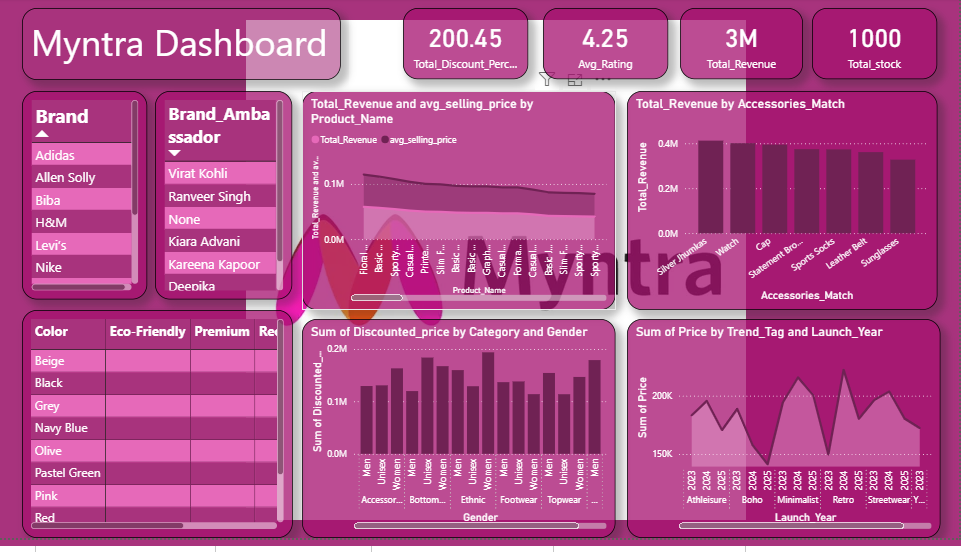

The dashboard page shown, as its layout file describes it:
{"tool":"powerbi","page":{"name":"Dashboard","canvas":[1280,720],"ordinal":6},"visuals":[{"type":"textbox","box":[30.3,13.8,432.2,95],"z":0},{"type":"stackedAreaChart","fields":{"Category":["Myntra_Fashion_Dataset.Product_Name"],"Y":["Myntra_Fashion_Dataset.Total_Revenue","Myntra_Fashion_Dataset.avg_selling_price"]},"box":[404.6,123.9,418.4,291.8],"z":1000},{"type":"tableEx","fields":{"Values":["Myntra_Fashion_Dataset.Brand"]},"box":[30.3,123.9,166.5,278],"z":2000},{"type":"lineStackedColumnComboChart","fields":{"Category":["Myntra_Fashion_Dataset.Accessories_Match"],"Y":["Myntra_Fashion_Dataset.Total_Revenue"]},"box":[836.8,123.9,414.3,291.8],"z":3000},{"type":"clusteredColumnChart","fields":{"Category":["Myntra_Fashion_Dataset.Category","Myntra_Fashion_Dataset.Gender"],"Y":["Myntra_Fashion_Dataset.Discounted_price"]},"box":[404.6,428,418.4,291.8],"z":4000},{"type":"card","fields":{"Values":["Myntra_Fashion_Dataset.Total_Revenue"]},"box":[908.4,13.8,163.8,95],"z":5000},{"type":"card","fields":{"Values":["Myntra_Fashion_Dataset.Total_stock"]},"box":[1084.6,13.8,166.5,95],"z":6000},{"type":"card","fields":{"Values":["Myntra_Fashion_Dataset.Avg_Rating"]},"box":[725.3,13.8,166.5,95],"z":7000},{"type":"card","fields":{"Values":["Myntra_Fashion_Dataset.Total_Discount_Percent"]},"box":[538.2,13.8,166.5,95],"z":8000},{"type":"stackedAreaChart","fields":{"Category":["Myntra_Fashion_Dataset.Trend_Tag","Myntra_Fashion_Dataset.Launch_Year"],"Y":["Myntra_Fashion_Dataset.Recurring Tag Years"]},"box":[836.8,428,418.4,291.8],"z":9000},{"type":"tableEx","fields":{"Values":["Myntra_Fashion_Dataset.Brand_Ambassador"]},"box":[207.8,123.9,183.1,278],"z":10000},{"type":"pivotTable","fields":{"Rows":["Myntra_Fashion_Dataset.Color"],"Columns":["Myntra_Fashion_Dataset.Material_Quality"]},"box":[30.3,415.7,360.6,304.2],"z":11000}]}

Visuals, with their boxes in screenshot pixels (x1, y1, x2, y2), scaled from the page's 1280x720 canvas onto the 961x552 screenshot:
textbox: <box>23,11,347,83</box>
stackedAreaChart - Myntra_Fashion_Dataset.Product_Name x Myntra_Fashion_Dataset.Total_Revenue: <box>304,95,618,319</box>
tableEx - Myntra_Fashion_Dataset.Brand: <box>23,95,148,308</box>
lineStackedColumnComboChart - Myntra_Fashion_Dataset.Accessories_Match x Myntra_Fashion_Dataset.Total_Revenue: <box>628,95,939,319</box>
clusteredColumnChart - Myntra_Fashion_Dataset.Category x Myntra_Fashion_Dataset.Gender: <box>304,328,618,551</box>
card - Myntra_Fashion_Dataset.Total_Revenue: <box>682,11,805,83</box>
card - Myntra_Fashion_Dataset.Total_stock: <box>814,11,939,83</box>
card - Myntra_Fashion_Dataset.Avg_Rating: <box>545,11,670,83</box>
card - Myntra_Fashion_Dataset.Total_Discount_Percent: <box>404,11,529,83</box>
stackedAreaChart - Myntra_Fashion_Dataset.Trend_Tag x Myntra_Fashion_Dataset.Launch_Year: <box>628,328,942,551</box>
tableEx - Myntra_Fashion_Dataset.Brand_Ambassador: <box>156,95,293,308</box>
pivotTable - Myntra_Fashion_Dataset.Color x Myntra_Fashion_Dataset.Material_Quality: <box>23,319,293,551</box>
